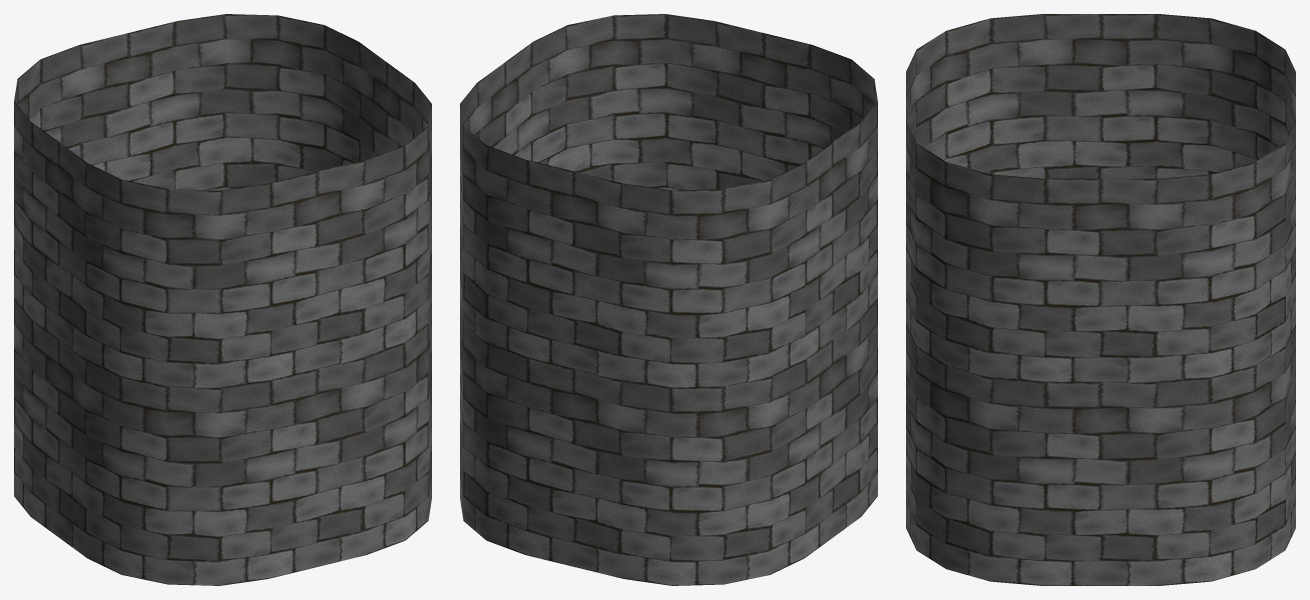
The model's file is CityWall_Tower.fbx.
The picture shows the model from 3 angles, left to right: view 1: azimuth 30°, elevation 25°; view 2: azimuth 150°, elevation 25°; view 3: azimuth 270°, elevation 25°; orthographic projection. The views are drawn at different scales.
Visible parts, largest first — view 1: pCube1; view 2: pCube1; view 3: pCube1.
Part boxes in pixels (x1=…): pCube1: x1=14, y1=14, x2=431, y2=585; pCube1: x1=460, y1=14, x2=877, y2=585; pCube1: x1=906, y1=14, x2=1295, y2=585.
Size of the model in its own units: 9.11 by 10.5 by 9.11.
Materials: 1 (1 with a texture image).
